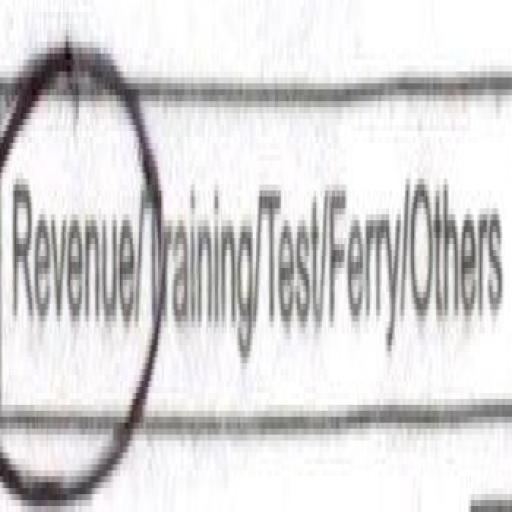check: (0, 6, 133, 512)
